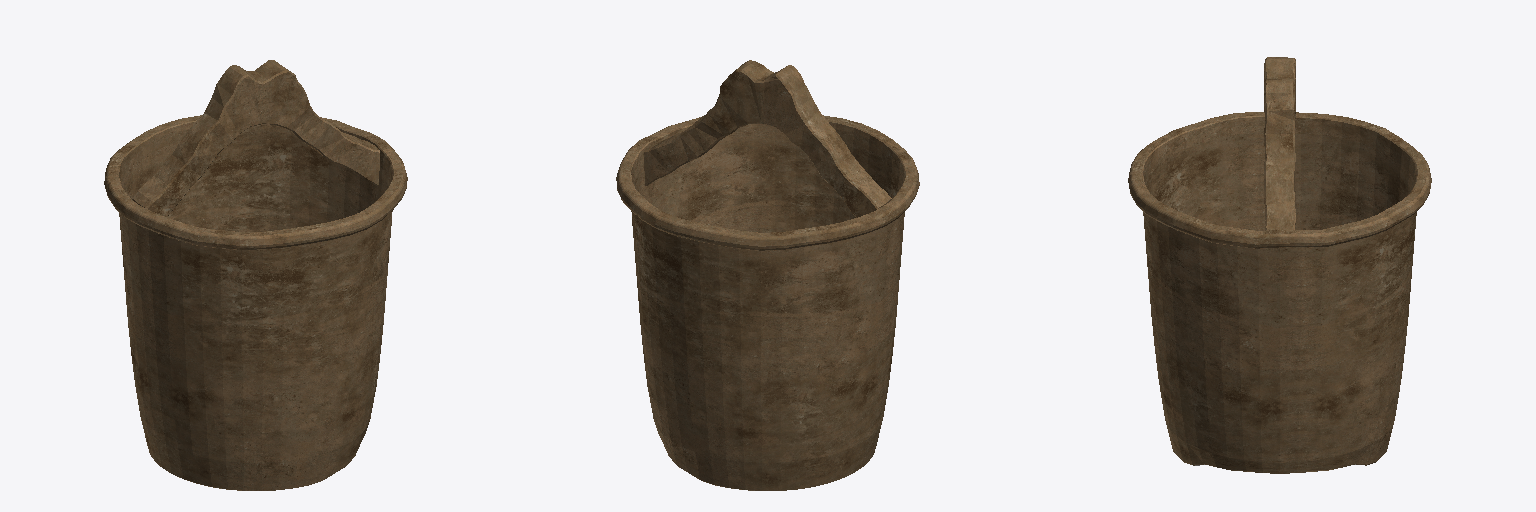
3 views of the same model, side by side, from view 1: azimuth 30°, elevation 25°; view 2: azimuth 150°, elevation 25°; view 3: azimuth 270°, elevation 25° (orthographic).
Parts seen in each view (by area): view 1: polySurface35; view 2: polySurface35; view 3: polySurface35.
Boxes of the visible parts, <box> form: polySurface35: <box>104,60,407,490</box>; polySurface35: <box>616,60,919,490</box>; polySurface35: <box>1128,57,1431,473</box>.
Bounding box in the file's own units: 12.03 × 16.62 × 12.03.
Materials: 2 (2 with a texture image).